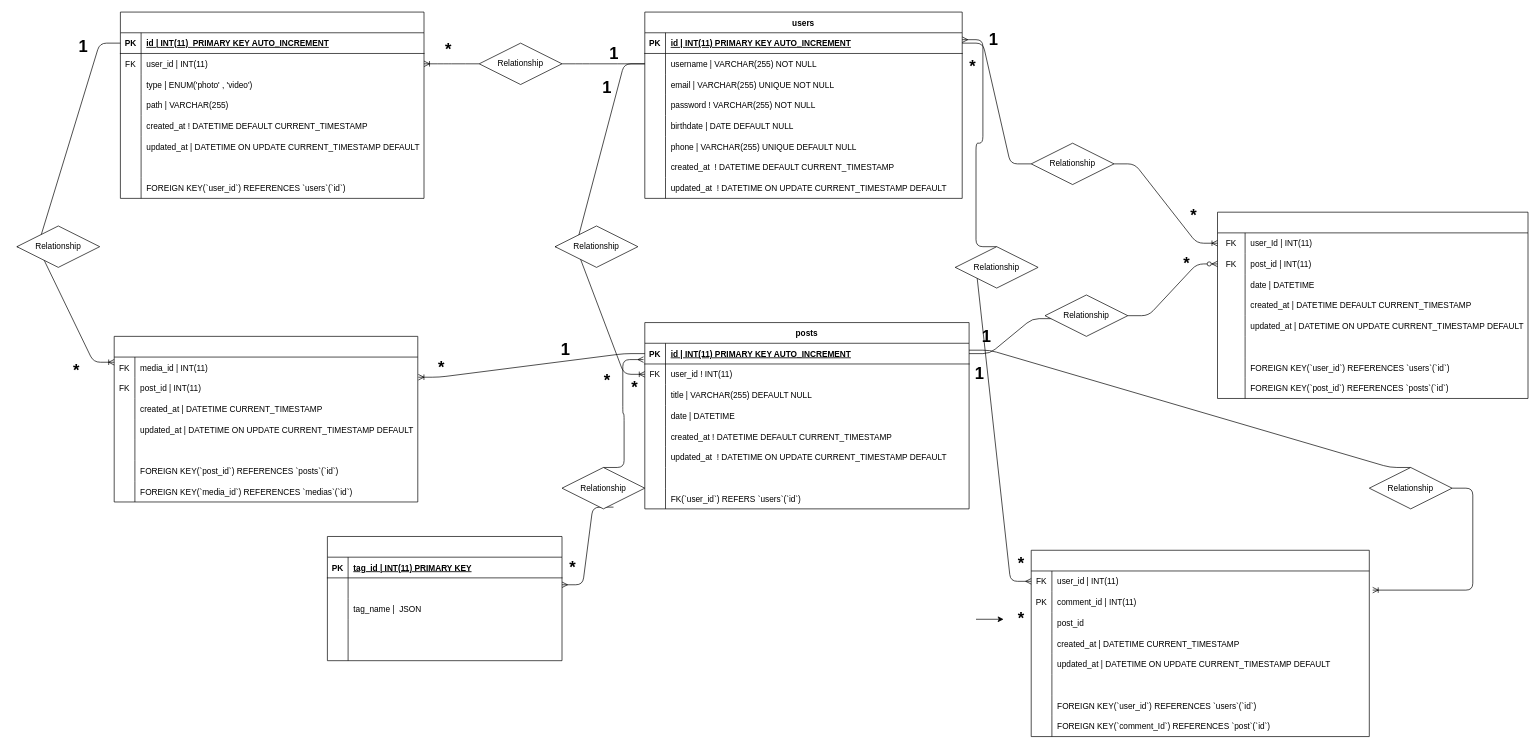
Some shapes in this 1540 by 749 pixel diagram are drawn without their labels. The shapes that lost their labels are listed below. From the top down, each one's box as (x1, y1, x2, y2) in pixels, then its label:
(120, 11, 424, 198): medias
(1217, 211, 1528, 398): likes
(114, 336, 418, 502): media_post
(327, 536, 562, 661): tags
(1031, 550, 1369, 737): comments
